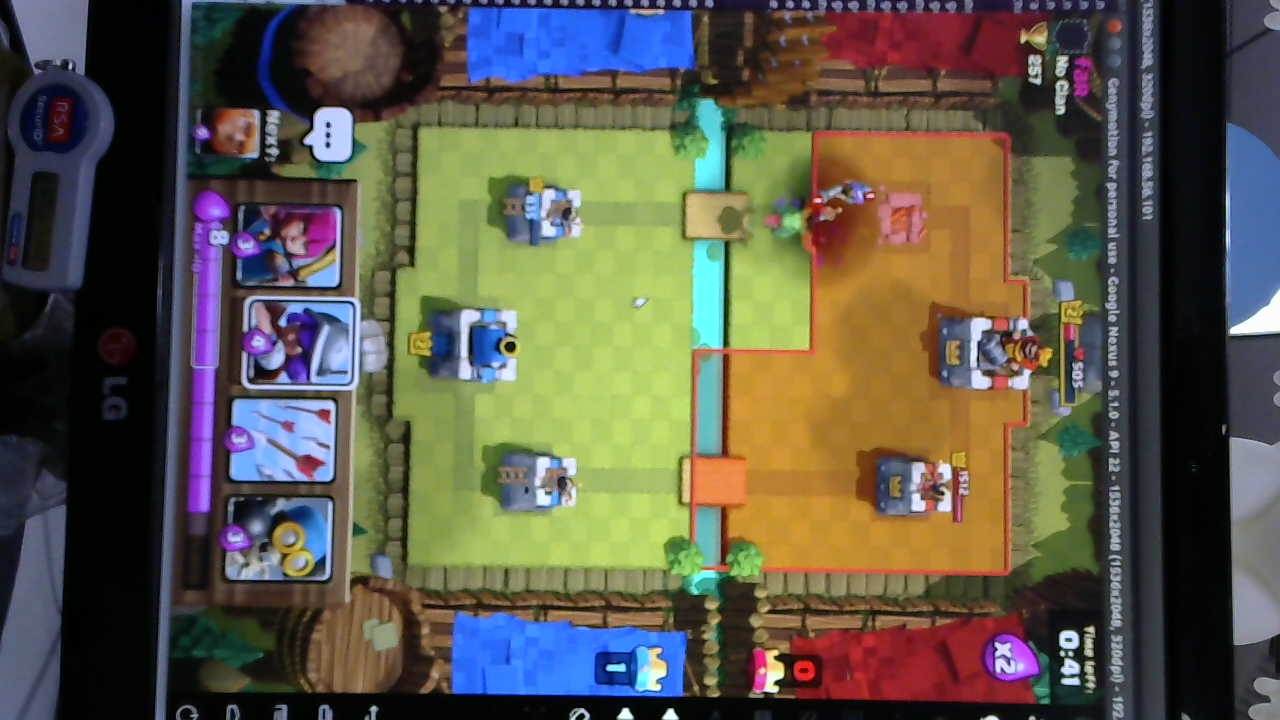arena: (497, 446, 584, 517), (516, 183, 585, 246)
dragon: (763, 197, 817, 247)
earena: (871, 453, 954, 521)
eking: (946, 314, 1042, 393)
king: (428, 301, 522, 388)
musketeer: (812, 174, 880, 208)
